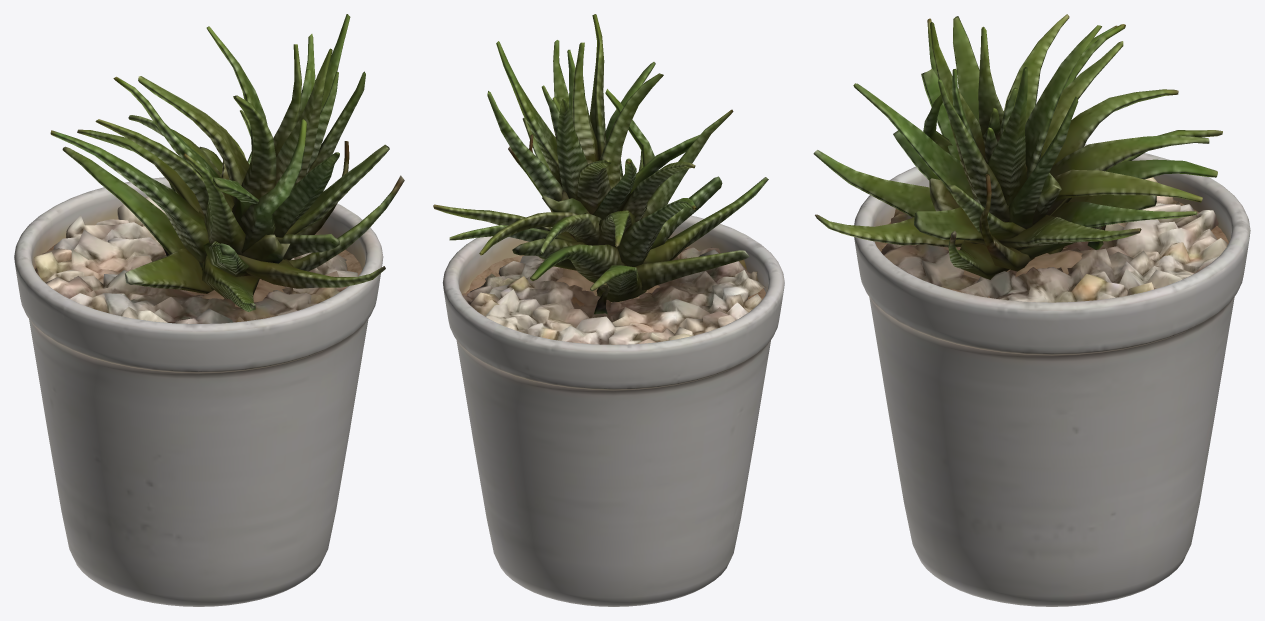
Rendered from potted_plant_04.glb.
3 renders of one model, left to right at view 1: azimuth 30°, elevation 25°; view 2: azimuth 150°, elevation 25°; view 3: azimuth 270°, elevation 25°, orthographic. The views are drawn at different scales.
Visible parts, largest first — view 1: potted_plant_04_pot, potted_plant_04_plant, potted_plant_04_ground, potted_plant_04_dirt; view 2: potted_plant_04_pot, potted_plant_04_plant, potted_plant_04_ground, potted_plant_04_dirt; view 3: potted_plant_04_pot, potted_plant_04_plant, potted_plant_04_ground, potted_plant_04_dirt.
Boxes of the visible parts, left/top/right/bottom form: potted_plant_04_pot: left=14, top=177, right=383, bottom=606; potted_plant_04_plant: left=50, top=14, right=404, bottom=311; potted_plant_04_ground: left=34, top=196, right=357, bottom=323; potted_plant_04_dirt: left=34, top=238, right=362, bottom=307; potted_plant_04_pot: left=442, top=215, right=784, bottom=606; potted_plant_04_plant: left=433, top=14, right=768, bottom=314; potted_plant_04_ground: left=463, top=247, right=765, bottom=344; potted_plant_04_dirt: left=462, top=247, right=765, bottom=306; potted_plant_04_pot: left=854, top=144, right=1250, bottom=606; potted_plant_04_plant: left=813, top=14, right=1222, bottom=279; potted_plant_04_ground: left=881, top=177, right=1227, bottom=302; potted_plant_04_dirt: left=875, top=200, right=1228, bottom=297.
Size of the model in its own units: 0.1679 by 0.2675 by 0.1848.
1 material, 1 textured.
